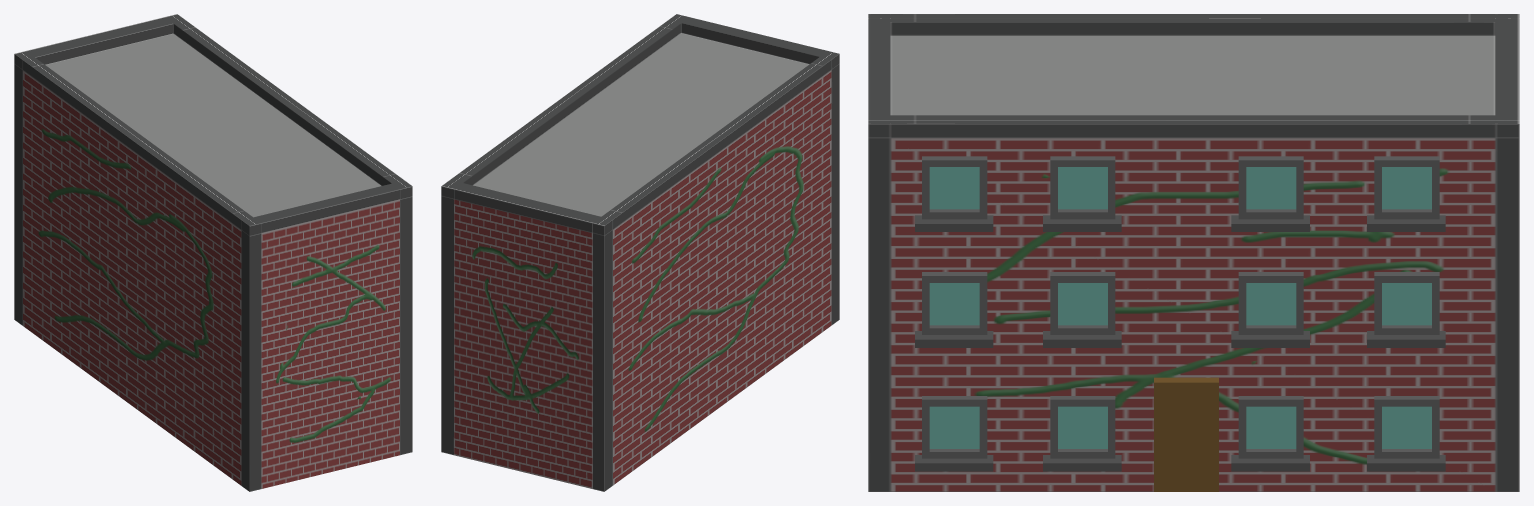
Rendered from TallHousenew.fbx.
The picture shows the model from 3 angles, left to right: view 1: azimuth 30°, elevation 25°; view 2: azimuth 150°, elevation 25°; view 3: azimuth 270°, elevation 25°; orthographic projection. The views are drawn at different scales.
Visible parts, largest first — view 1: group37_pasted__group_pasted__pasted__polySurface31; view 2: group37_pasted__group_pasted__pasted__polySurface31; view 3: group37_pasted__group_pasted__pasted__polySurface31.
Part boxes in pixels (box(x1,y1,x2,y2)): group37_pasted__group_pasted__pasted__polySurface31: box(14, 14, 412, 491); group37_pasted__group_pasted__pasted__polySurface31: box(441, 14, 839, 491); group37_pasted__group_pasted__pasted__polySurface31: box(868, 14, 1519, 491).
Bounding box in the file's own units: 4.31 × 6.23 × 10.
